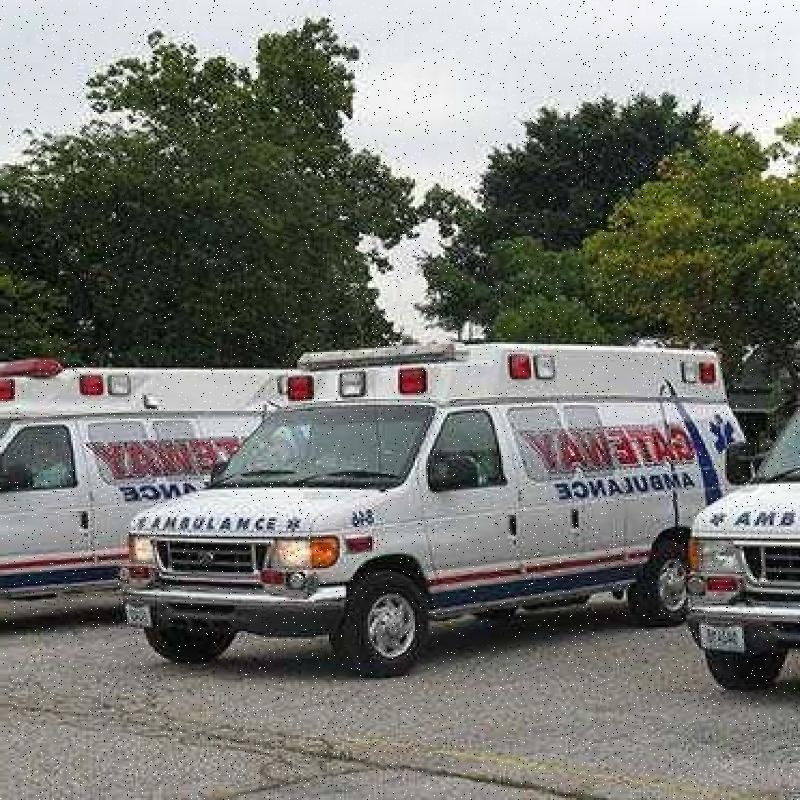ambulance: (112, 315, 746, 693)
